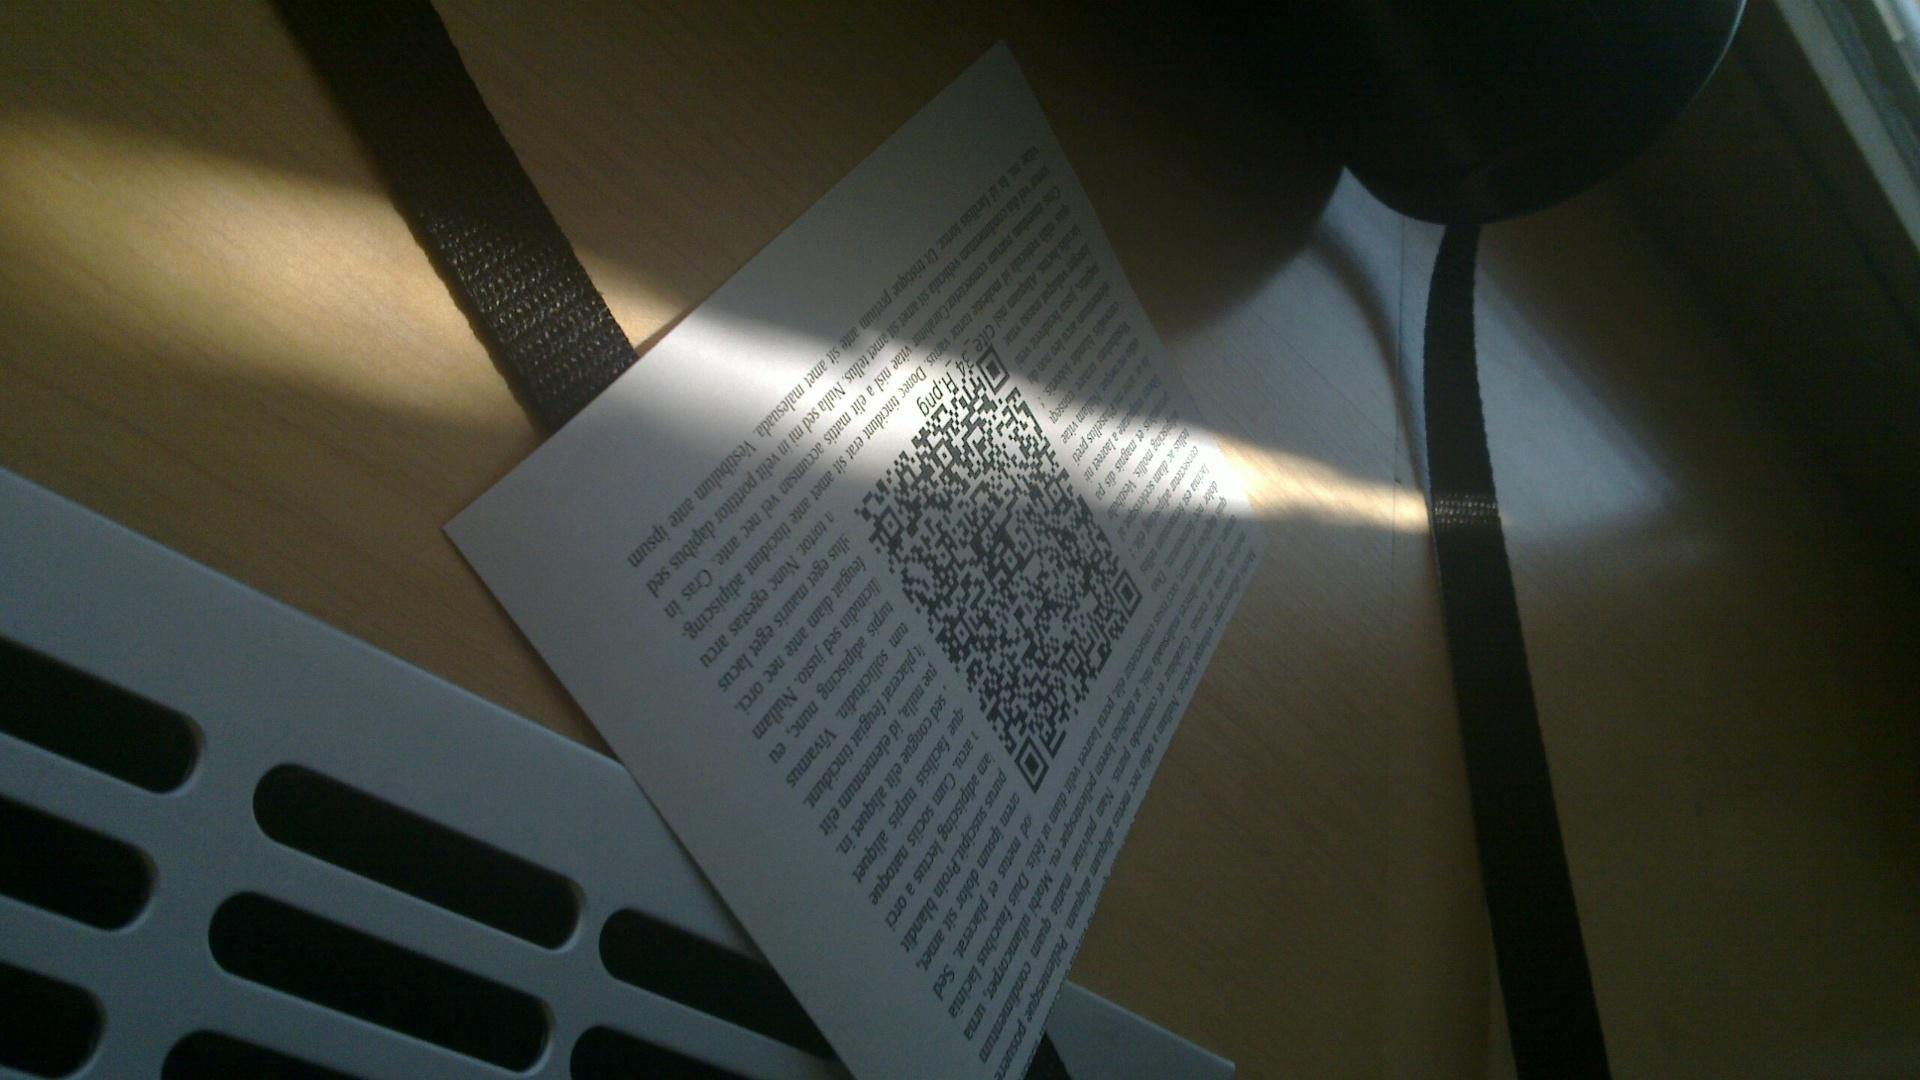Finder pattern: (1010, 732, 1048, 793), (973, 343, 1013, 397), (1110, 566, 1145, 618)
